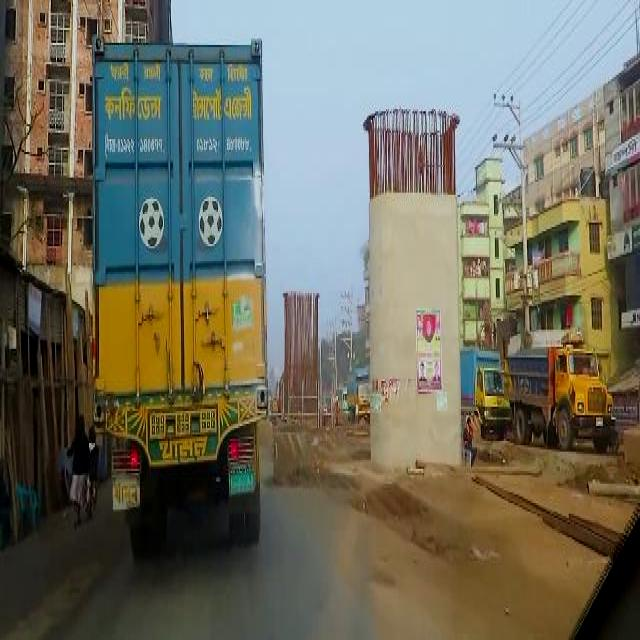TRUCK: (509, 343, 613, 448)
